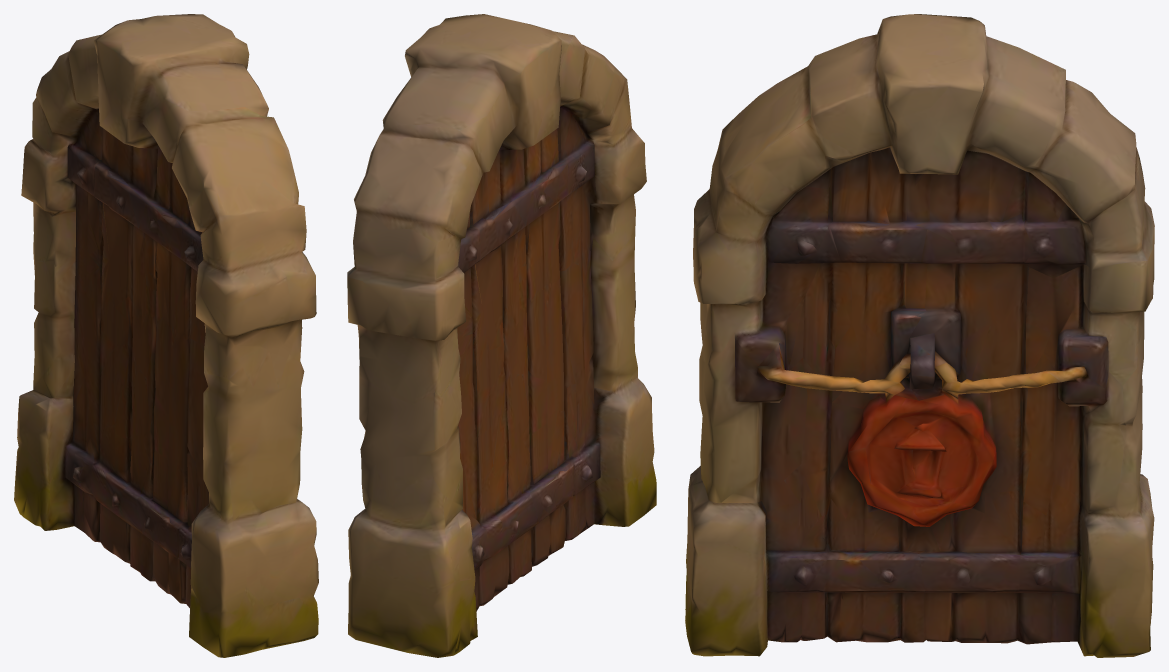
Rendered from model-prop-bay-door-seal-01.glb.
3 views of the same model, side by side, from view 1: azimuth 30°, elevation 25°; view 2: azimuth 150°, elevation 25°; view 3: azimuth 270°, elevation 25° (orthographic). The views are drawn at different scales.
Parts seen in each view (by area): view 1: tripo_node_1a5372c9-613b-4b40-a787-a930fdfe82a2; view 2: tripo_node_1a5372c9-613b-4b40-a787-a930fdfe82a2; view 3: tripo_node_1a5372c9-613b-4b40-a787-a930fdfe82a2.
Part boxes in pixels (x1,y1,x2,y2): tripo_node_1a5372c9-613b-4b40-a787-a930fdfe82a2: (14,14,318,657); tripo_node_1a5372c9-613b-4b40-a787-a930fdfe82a2: (347,14,656,657); tripo_node_1a5372c9-613b-4b40-a787-a930fdfe82a2: (685,14,1154,657).
Bounding box in the file's own units: 0.4914 × 2.1 × 1.5.
Materials: 1 (1 with a texture image).
